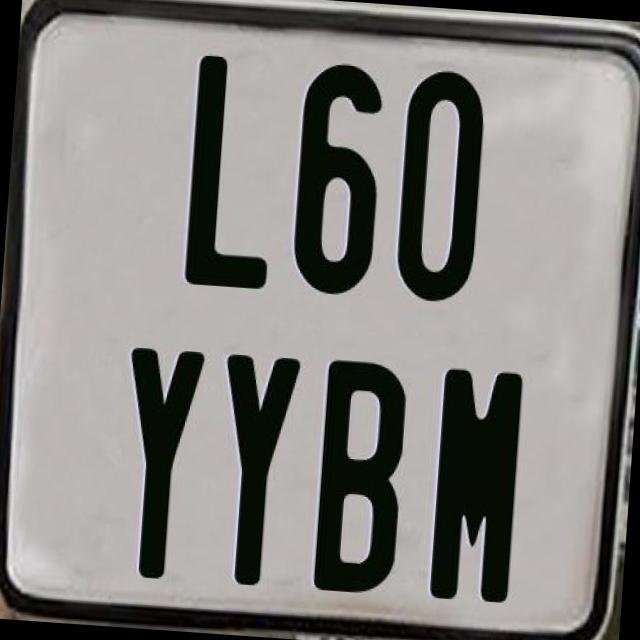0: (389, 68, 487, 312)
6: (287, 58, 386, 294)
B: (310, 358, 404, 602)
L: (182, 52, 284, 290)
M: (425, 366, 525, 602)
Y: (113, 342, 210, 578), (210, 350, 306, 588)
